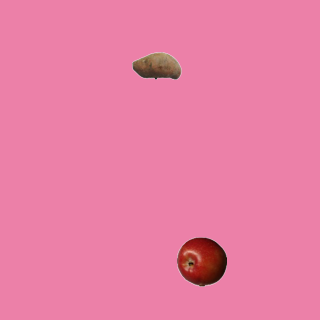Apple Braeburn: (176, 236, 226, 286)
Potato Sweet: (131, 40, 181, 90)
